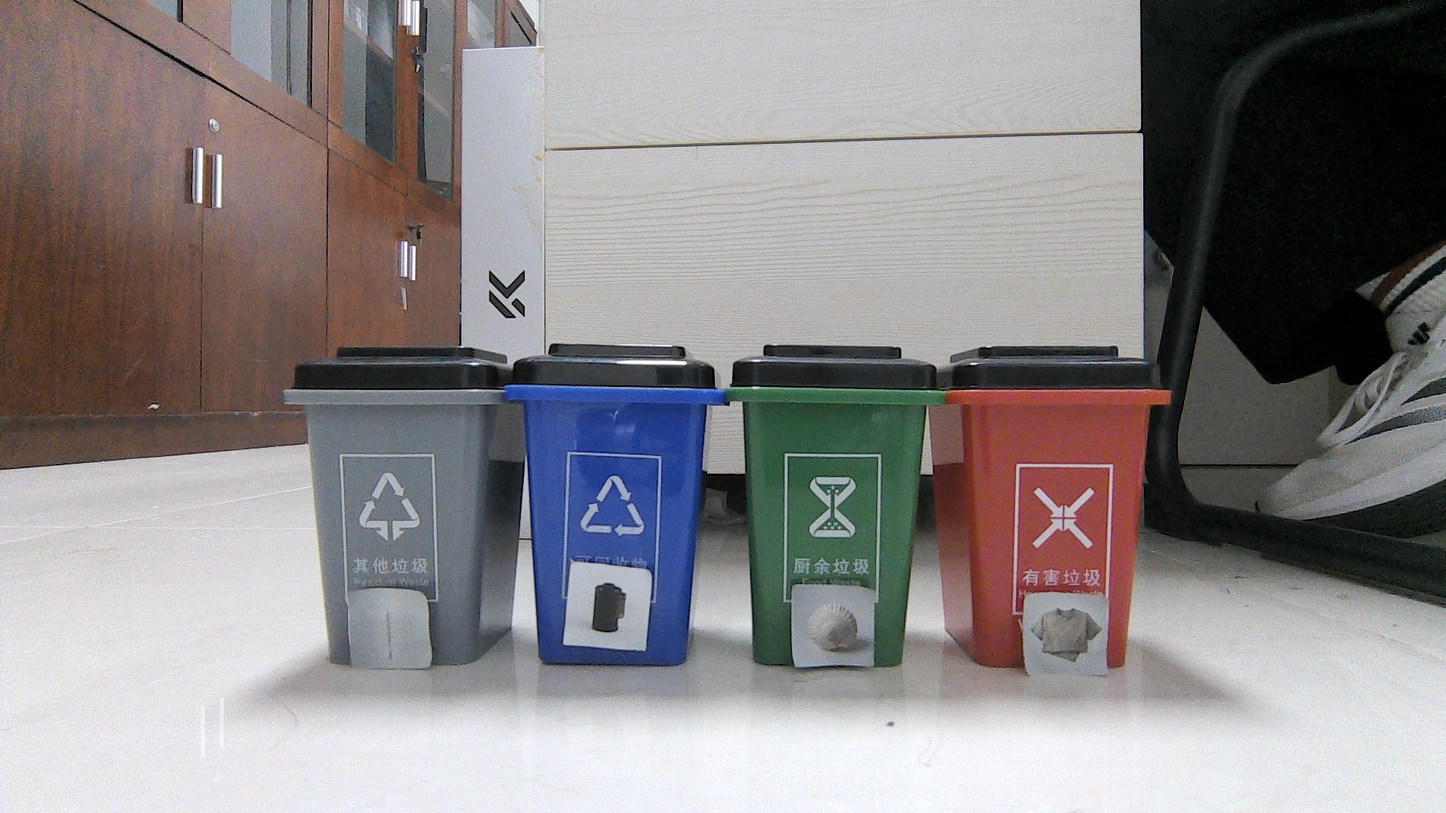hazardous_trash: (354, 592, 423, 666), (574, 567, 639, 645)
other_trash: (794, 588, 871, 664)
recyclable_trash: (1026, 595, 1105, 670)
